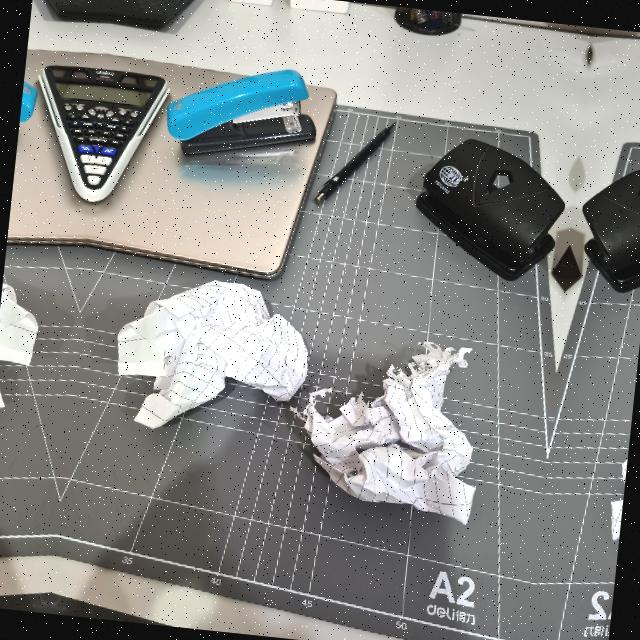paper: (300, 334, 498, 520), (106, 270, 316, 442), (0, 257, 45, 413), (598, 366, 636, 534)
